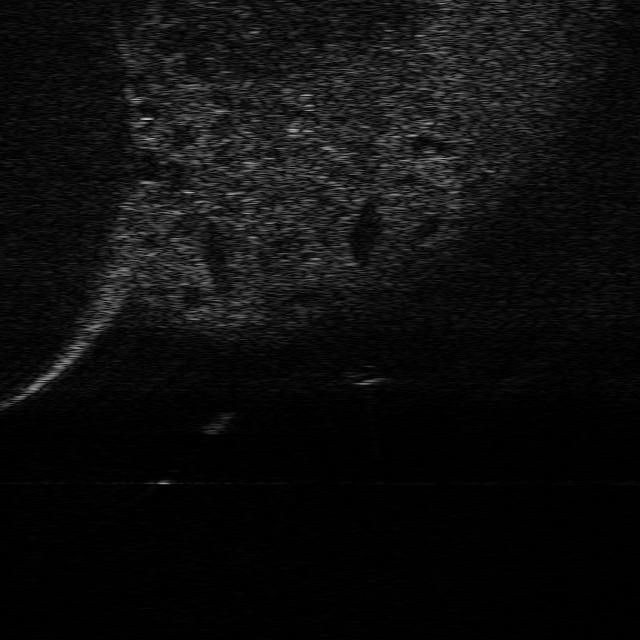cube: (339, 366, 386, 387)
cylinder: (196, 408, 232, 437)
